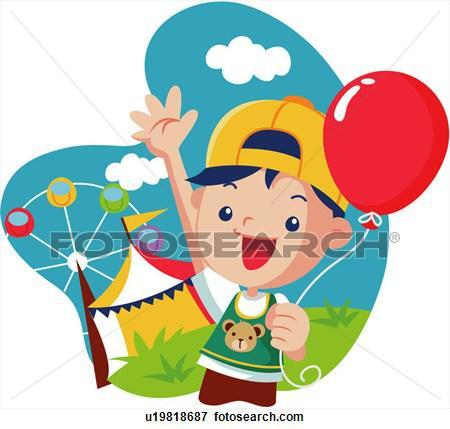person: (125, 80, 351, 409)
